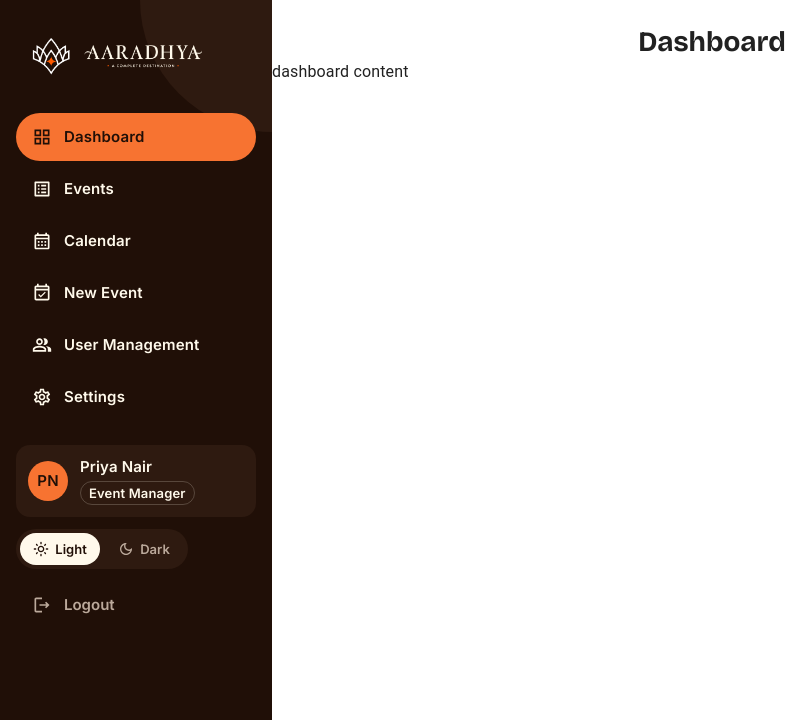
AppShell › desktop rail (>=900px) › navigates via Link when a row is clicked, swapping the page content
Click the link "Calendar". click: (81, 241)
box: [32,231,131,251]
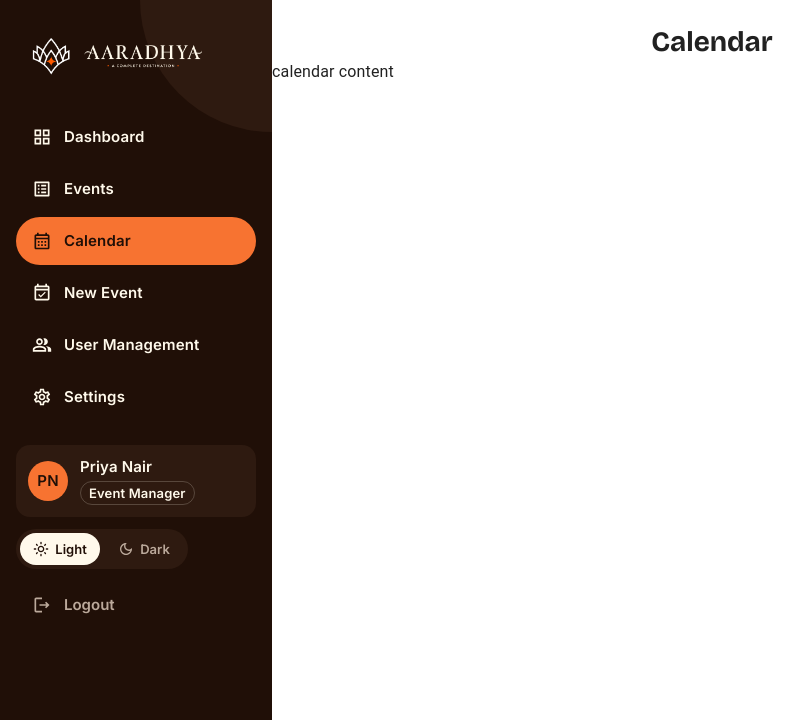
Expected: the text "calendar content" is shown, [272,62,394,81]
